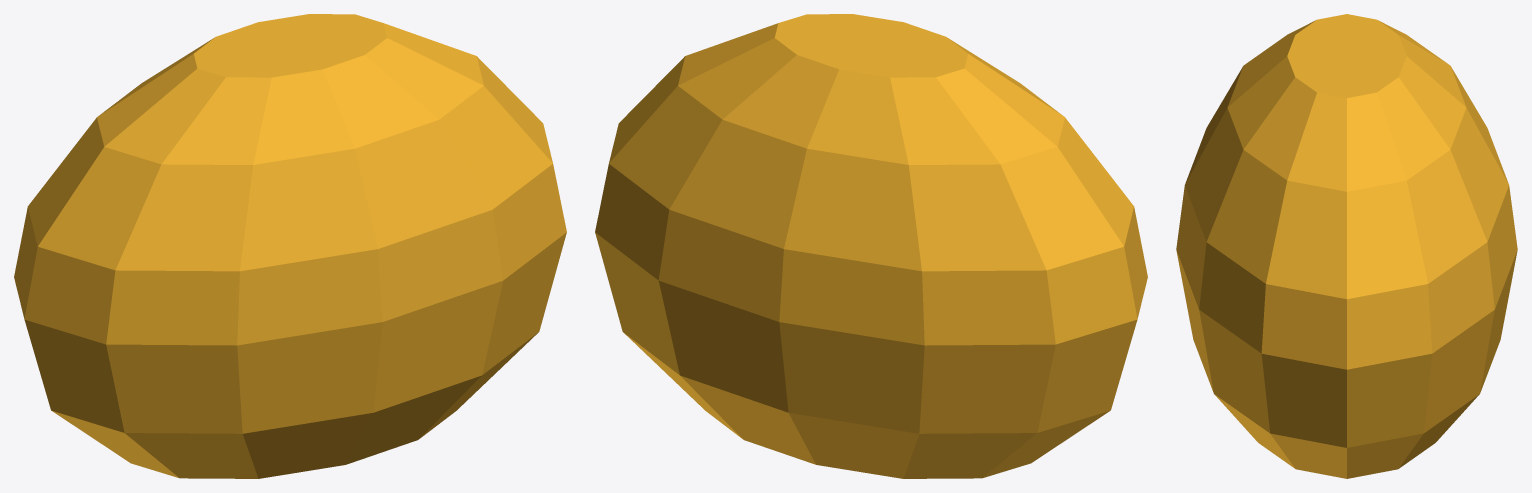
Rendered from SM_Topaz_Normal.fbx.
The picture shows the model from 3 angles, left to right: view 1: azimuth 30°, elevation 25°; view 2: azimuth 150°, elevation 25°; view 3: azimuth 270°, elevation 25°; orthographic projection. The views are drawn at different scales.
Visible parts, largest first — view 1: SM_Topaz_Normal; view 2: SM_Topaz_Normal; view 3: SM_Topaz_Normal.
Boxes of the visible parts, box(x1,y1,x2,y2) form: SM_Topaz_Normal: box(14, 14, 566, 478); SM_Topaz_Normal: box(595, 14, 1147, 478); SM_Topaz_Normal: box(1176, 14, 1517, 478).
Size of the model in its own units: 20 by 12 by 15.
